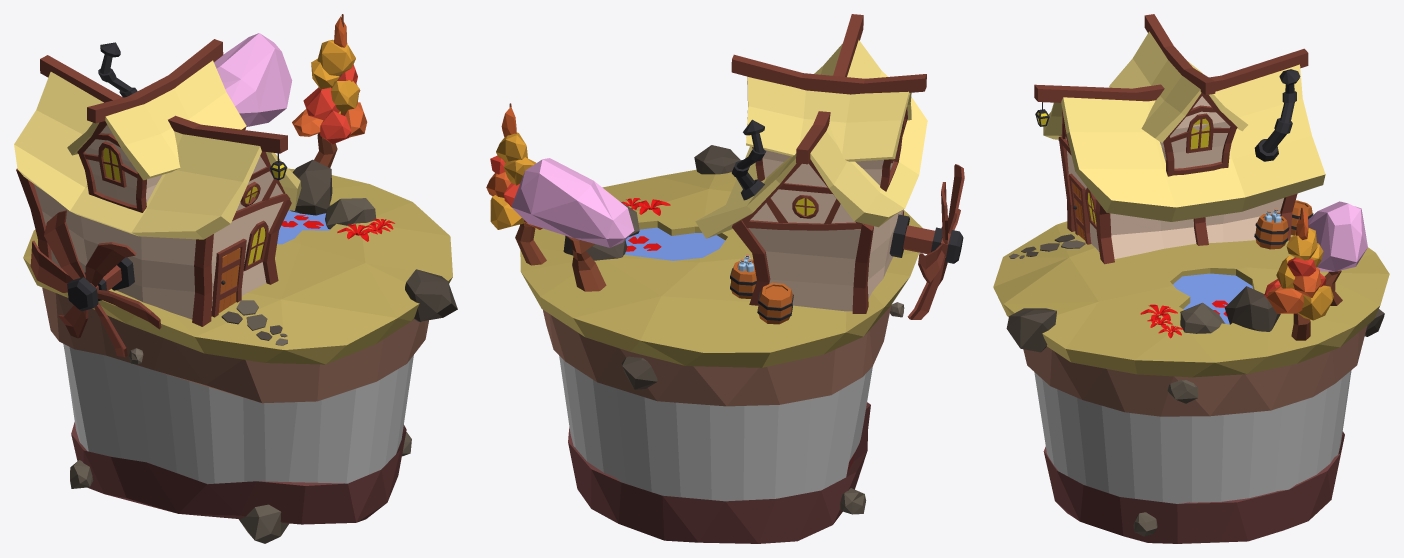
File: LandspacesCourse.fbx
The picture shows the model from 3 angles, left to right: view 1: azimuth 30°, elevation 25°; view 2: azimuth 150°, elevation 25°; view 3: azimuth 270°, elevation 25°; orthographic projection. The views are drawn at different scales.
Parts seen in each view (by area): view 1: Island; view 2: Island; view 3: Island.
Part boxes in pixels (x1,y1,x2,y2): Island: (14,14,457,543); Island: (486,14,964,543); Island: (993,14,1389,543).
Bounding box in the file's own units: 6.89 × 7.54 × 6.6.
